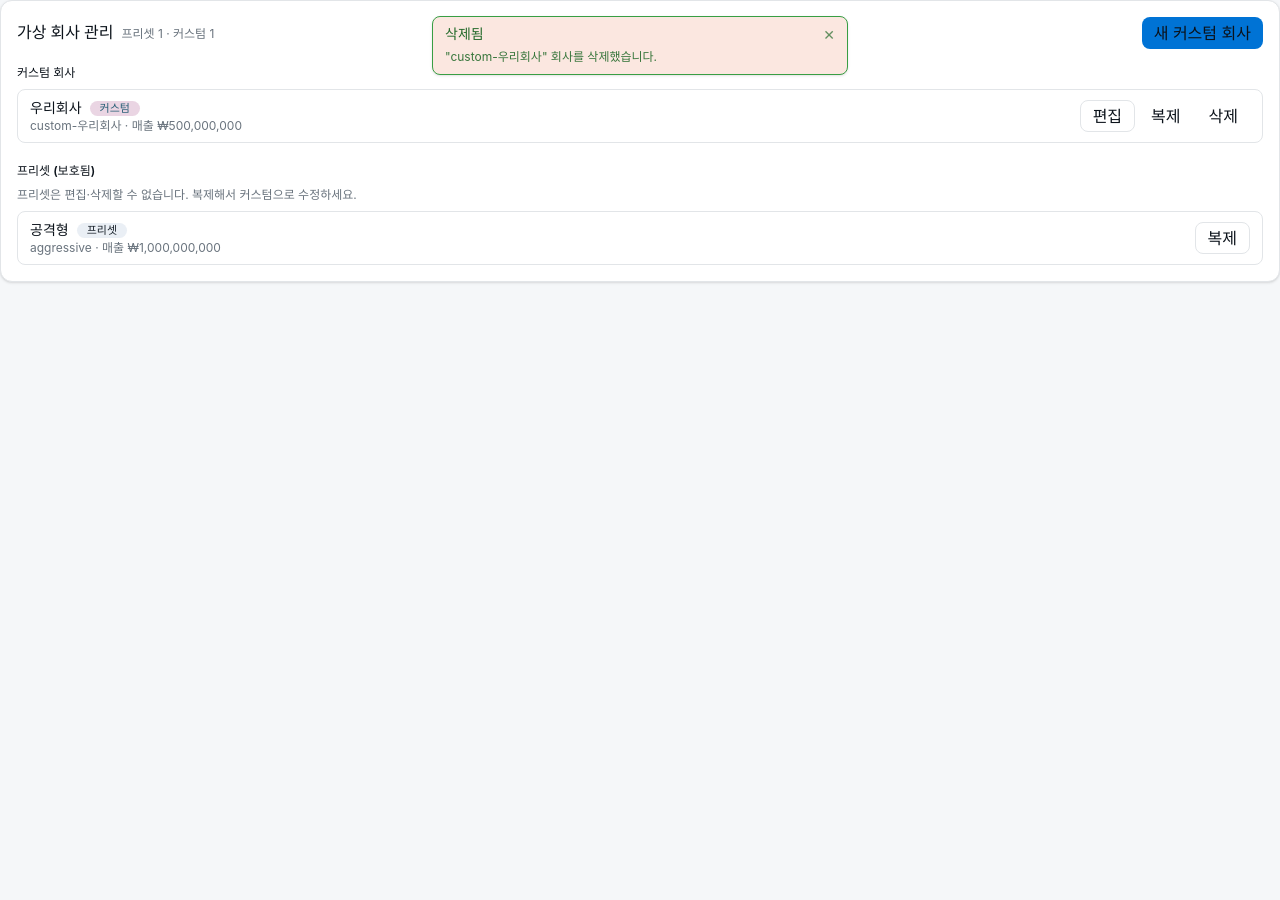
Scenario: CustomOperatorManager › opens the create form from the new-company button
The image size is (1280, 900).
Expected: the text "우리회사" is shown, [30,98,82,118]
Click the button "새 커스텀 회사". click: (1202, 33)
box: [1142,17,1263,49]
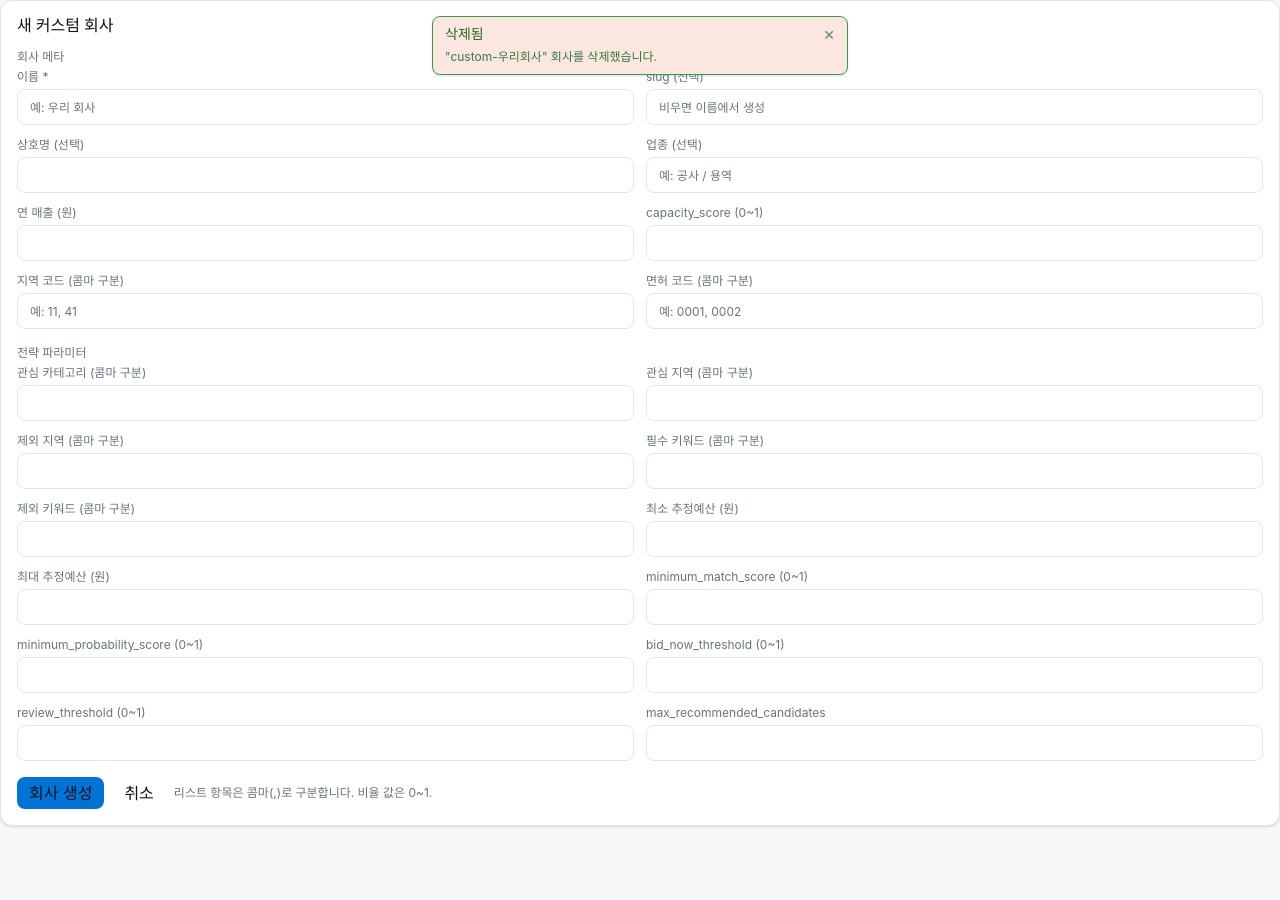
Expected: the element named "커스텀 회사 생성" is shown
Expected: the button "회사 생성" is shown, [17,777,104,809]
